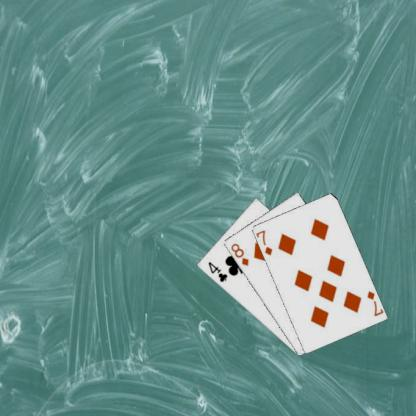4C: (205, 259, 229, 284)
7D: (254, 227, 274, 257), (364, 288, 383, 317)
8D: (228, 240, 250, 267)
